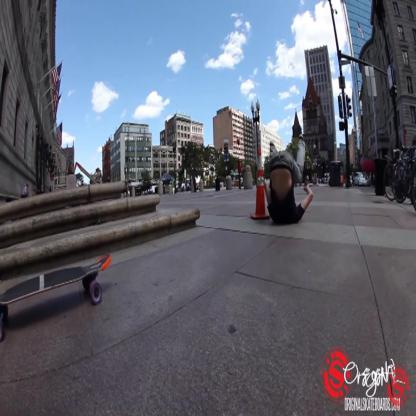Fall_Down: (264, 134, 315, 230)
